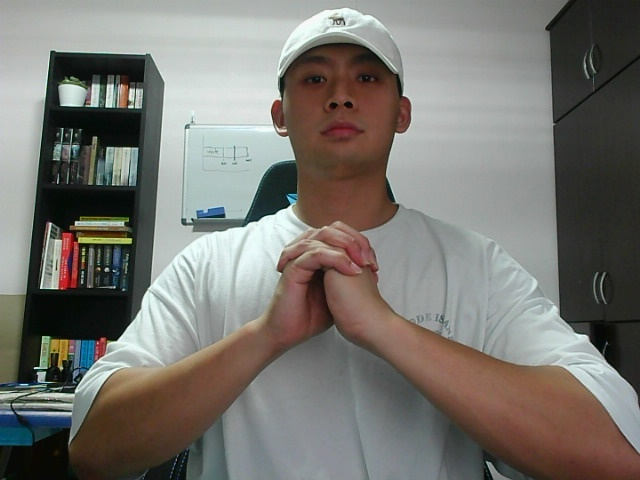Serpent: (260, 207, 410, 383)
